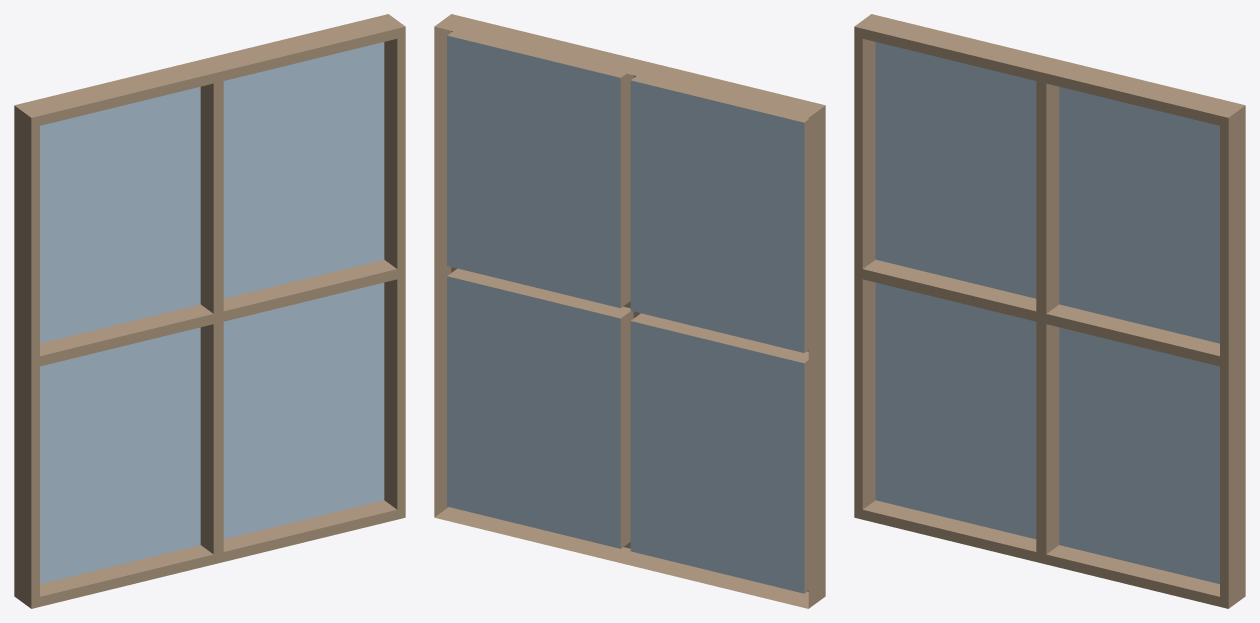
File: classroom_window.fbx
3 views of the same model, side by side, from view 1: azimuth 30°, elevation 25°; view 2: azimuth 150°, elevation 25°; view 3: azimuth 330°, elevation 25° (orthographic).
Visible parts, largest first — view 1: pCube10; view 2: pCube10; view 3: pCube10.
Boxes of the visible parts, left/top/right/bottom form: pCube10: left=14, top=14, right=405, bottom=608; pCube10: left=434, top=14, right=825, bottom=608; pCube10: left=854, top=14, right=1245, bottom=608.
Size of the model in its own units: 2.58 by 3.24 by 0.2063.
